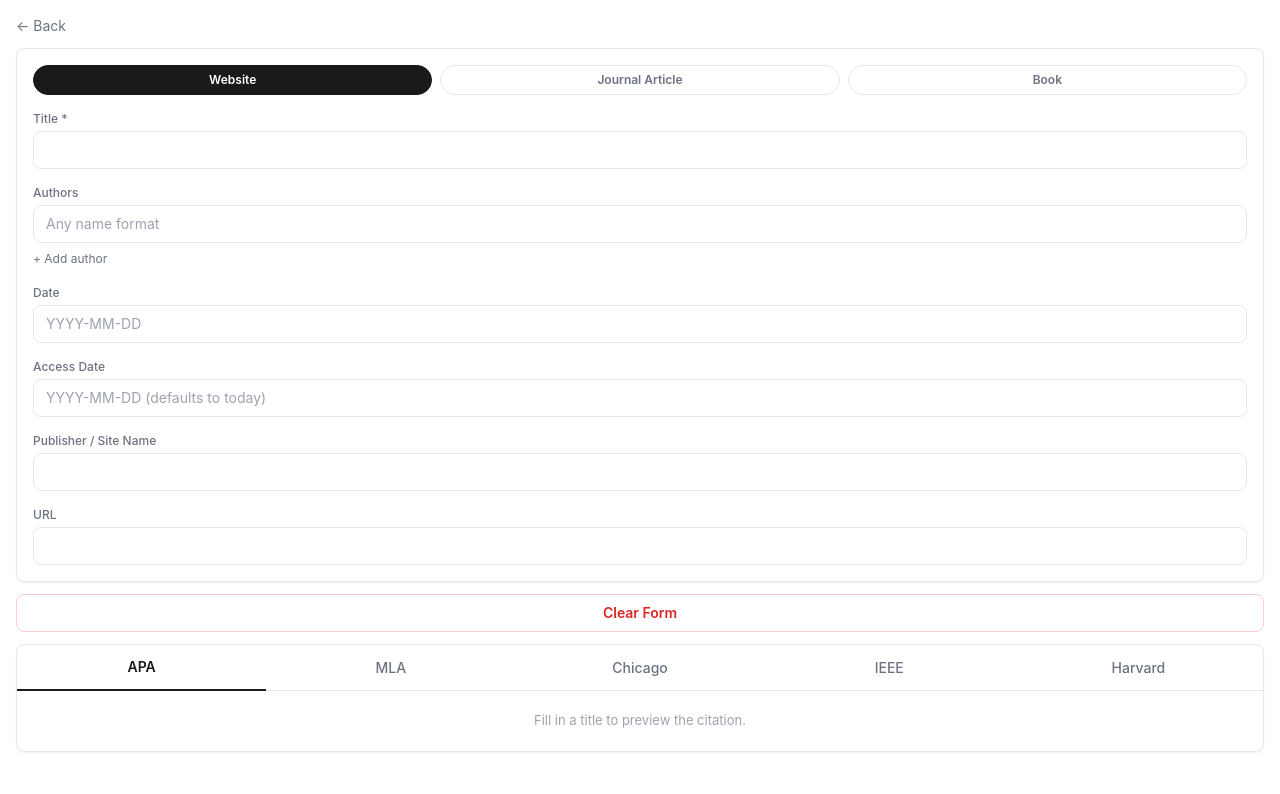
ManualEntryForm — source type switching › does not show Access Date field for Journal Article
Step 1. Click the button "Journal Article" → (640, 80), box top-left (440, 65), bottom-right (840, 95)
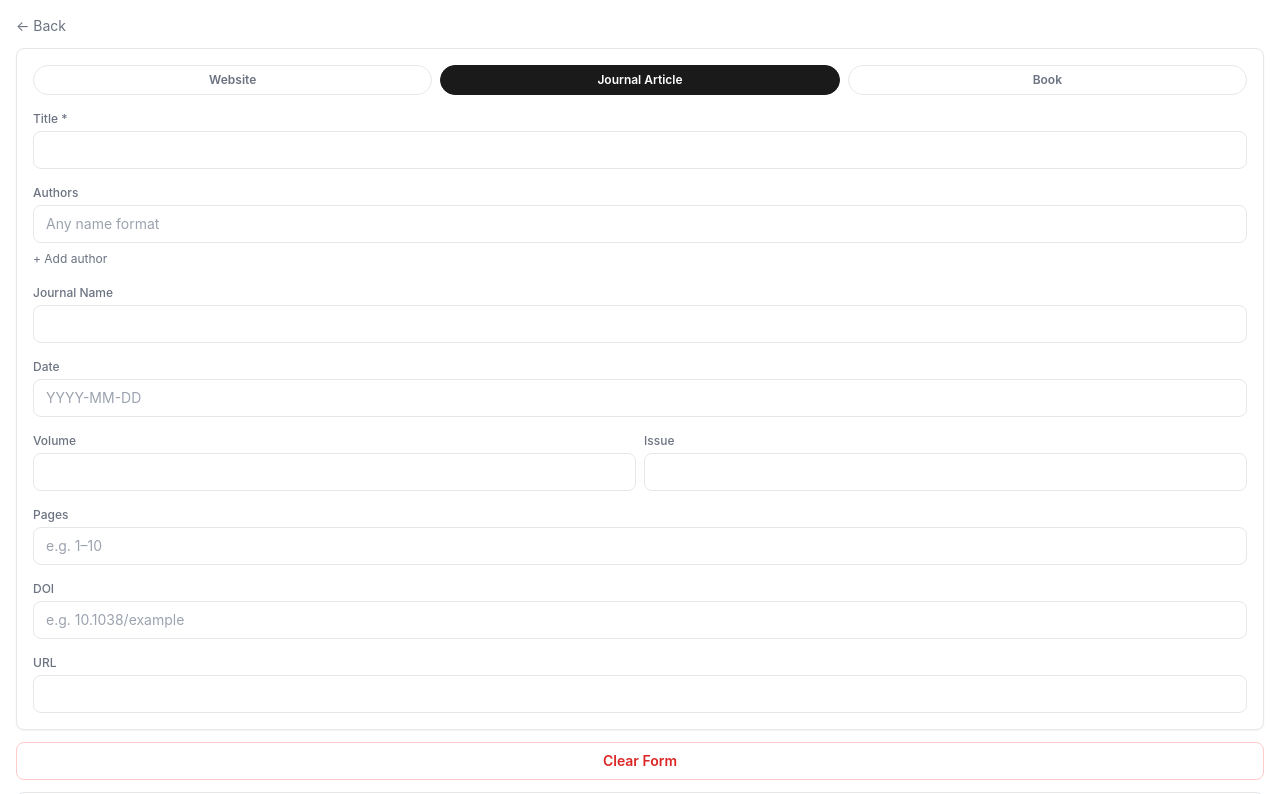
Now the text "Access Date" is gone
